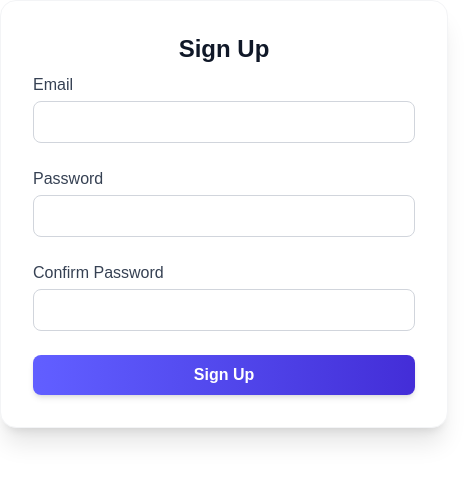
Test: SignupForm › shows error when passwords do not match
Type "test@example.com" into the field labelled "Email" at [224, 122], box [33,101,415,143]
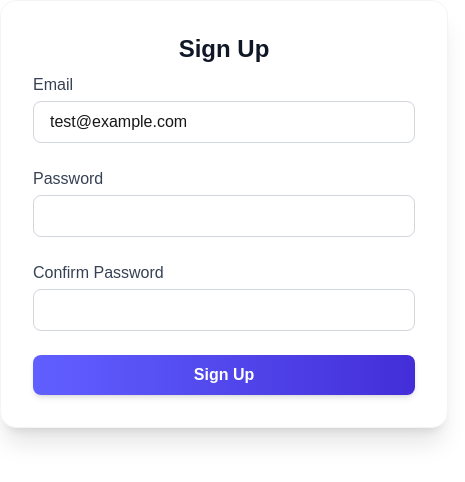
Type "password123" into the password field labelled "Password" at [224, 216], box [33,195,415,237]
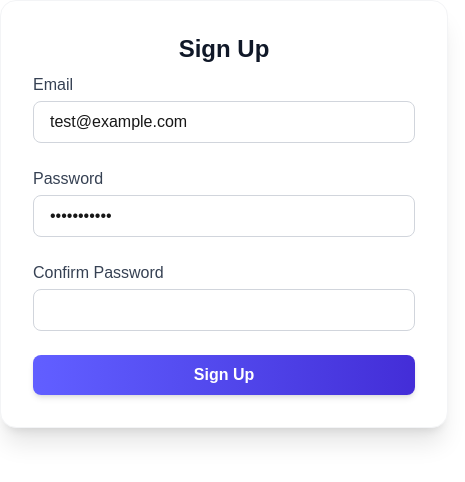
Type "password456" into the password field labelled "Confirm Password" at [224, 310], box [33,289,415,331]
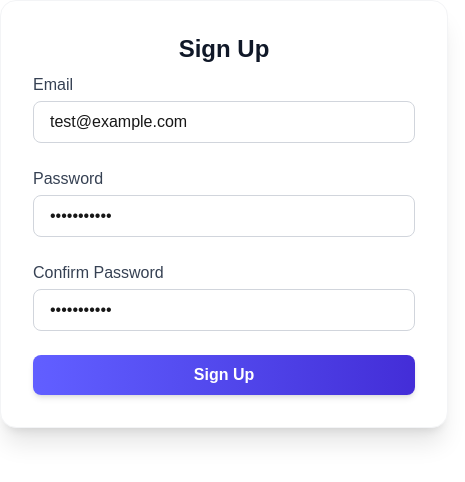
Submit the form
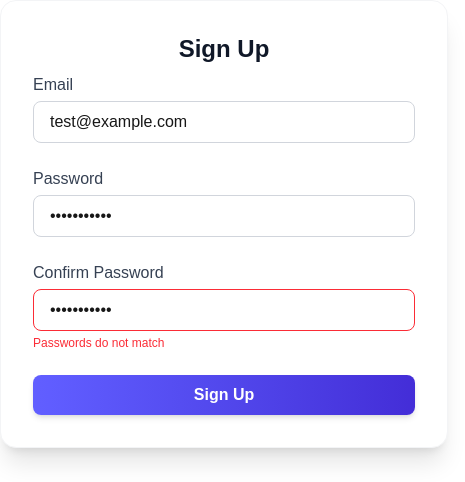
Now the text with id "confirmPassword-error" reads "Passwords do not match", box [33,336,164,350]
